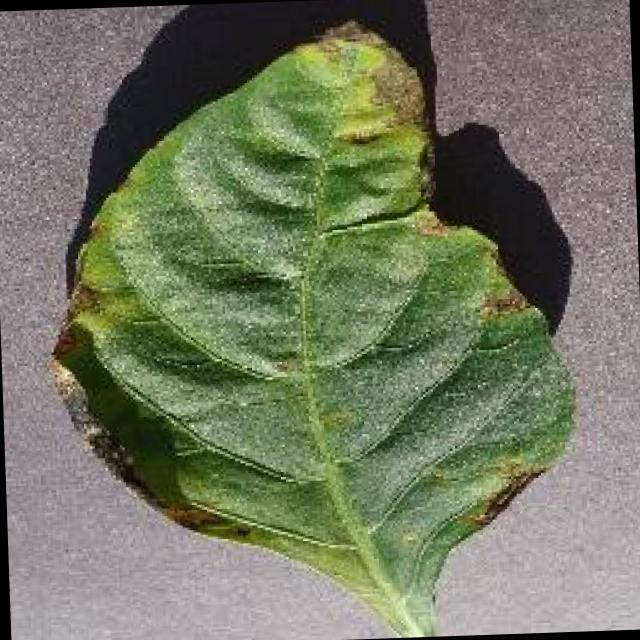Chilli_Bacterial_Spot: (35, 9, 586, 640), (290, 13, 428, 148), (366, 48, 428, 128), (328, 108, 394, 150), (476, 285, 530, 322), (317, 15, 368, 48), (336, 122, 384, 146), (48, 324, 78, 359)
